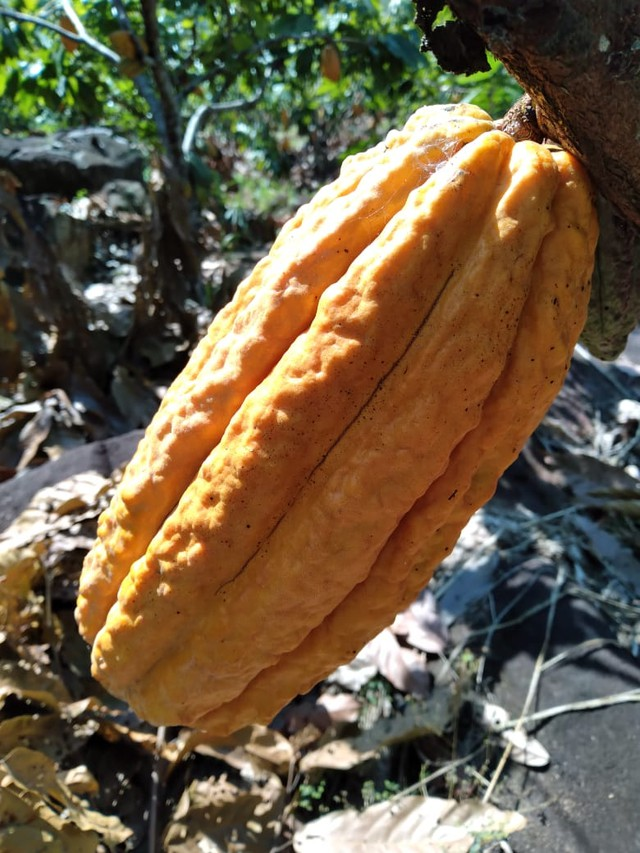Health: (57, 93, 608, 745)
